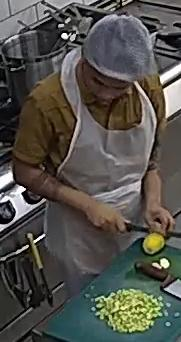apron: (56, 57, 158, 284)
